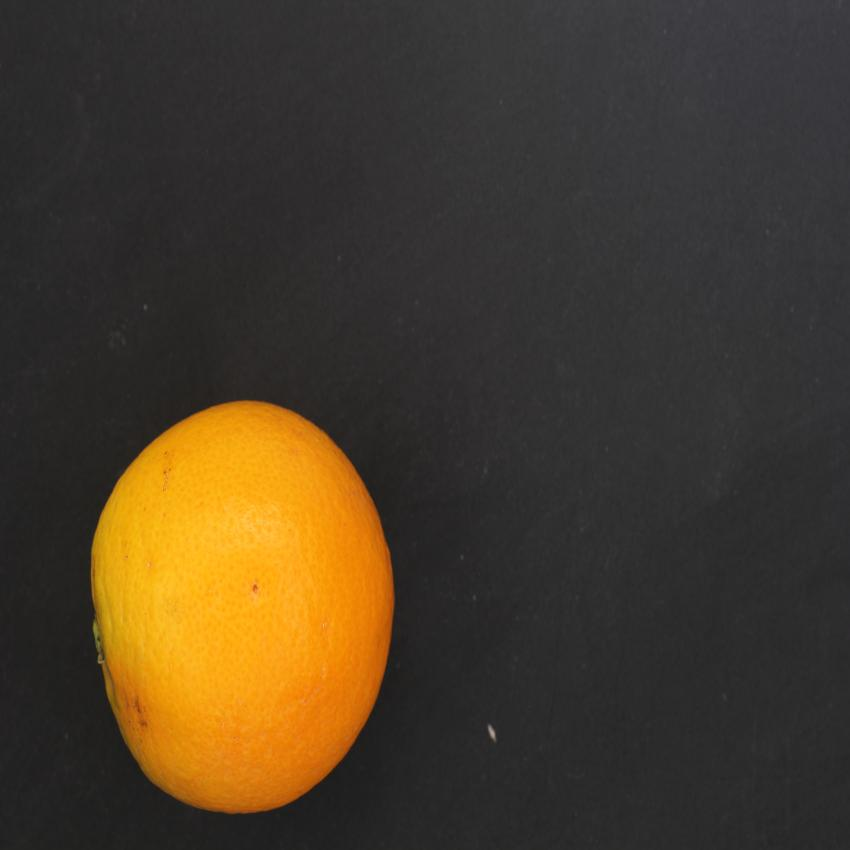Buen estado: (79, 388, 419, 823)
